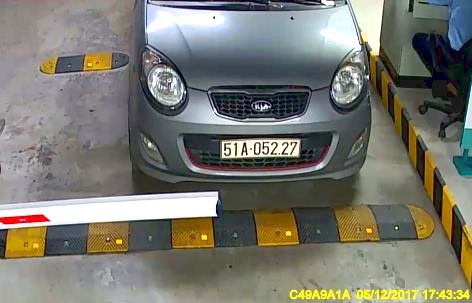plate: (217, 134, 301, 162)
